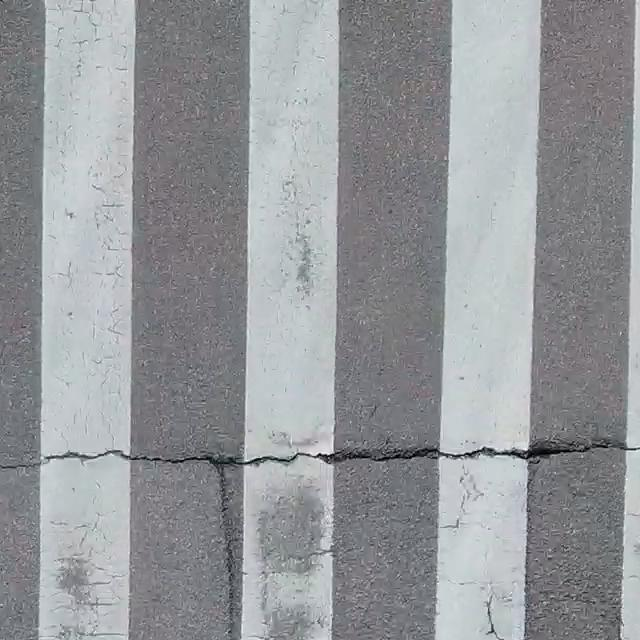GRIETA: (0, 439, 639, 470), (211, 466, 241, 639)
PIEL DE COCODRILO: (47, 0, 128, 84)
